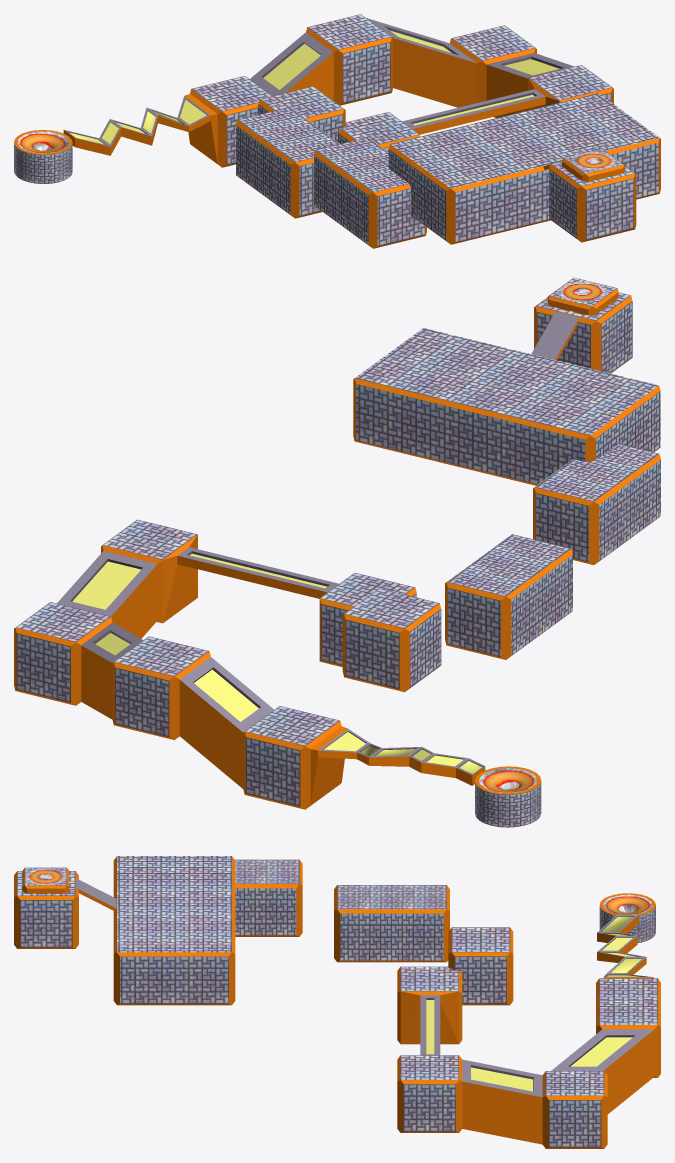
The model's file is Level12.fbx.
3 views of the same model, one above another, from view 1: azimuth 30°, elevation 25°; view 2: azimuth 150°, elevation 25°; view 3: azimuth 270°, elevation 25° (orthographic). The views are drawn at different scales.
Parts seen in each view (by area): view 1: Level12; view 2: Level12; view 3: Level12.
Part boxes in pixels (<box>): Level12: <box>14,14,660,248</box>; Level12: <box>14,277,660,827</box>; Level12: <box>14,856,660,1148</box>.
Size of the model in its own units: 2665 by 1079 by 3316.
10 materials, 5 textured.
